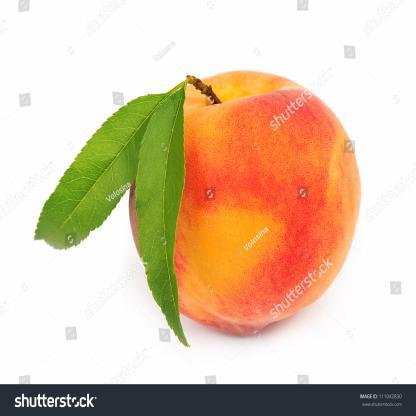Peach leaf: (34, 94, 162, 256), (132, 81, 196, 352)
